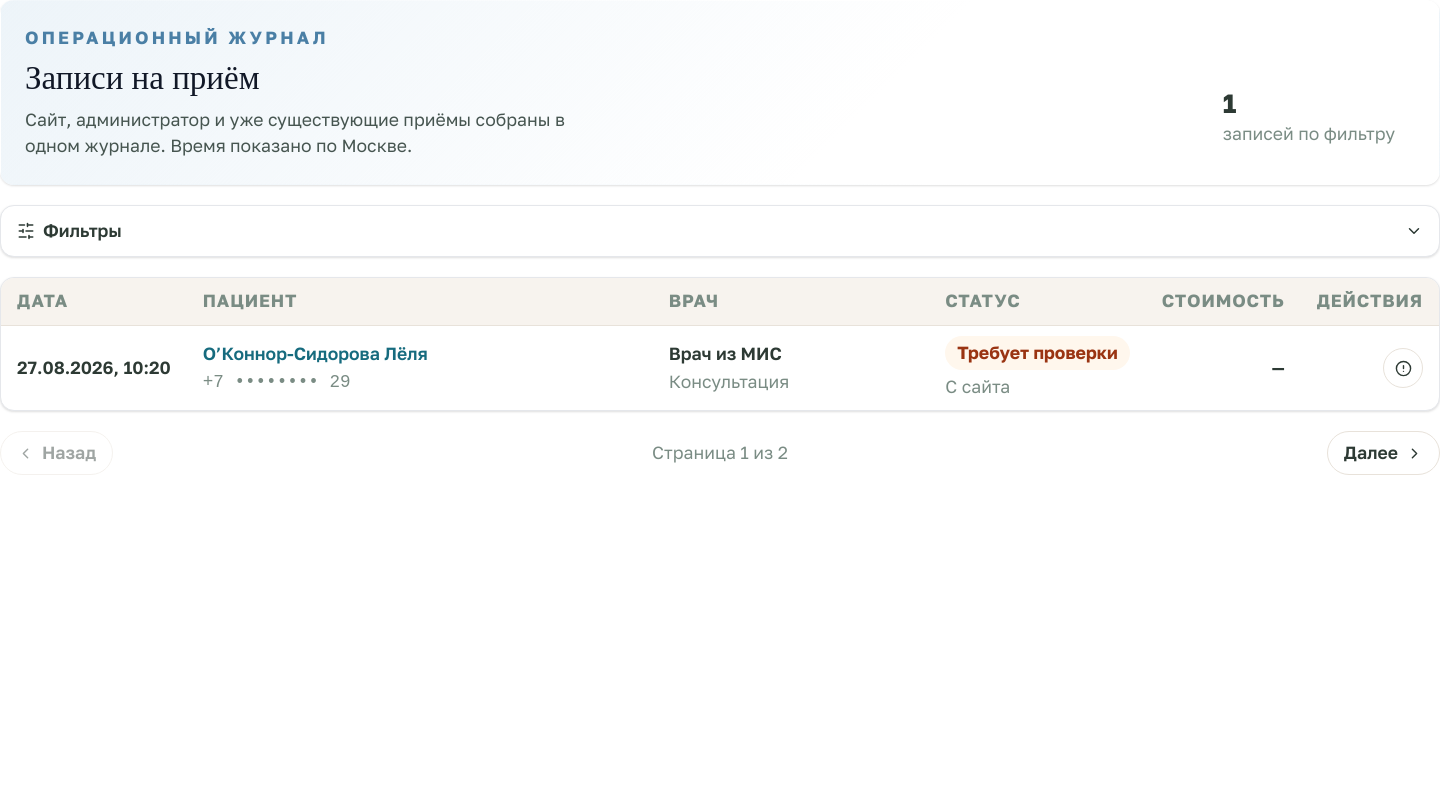
Test: Appointments admin view › manually confirms a needs-review appointment with an explicit claim
Expected: the text "Требует проверки" is shown, [945,336,1130,370]
Click the button named "Подтвердить запись О’Коннор-Сидорова Лёля" at point(1403, 368), box [1383,348,1423,388]
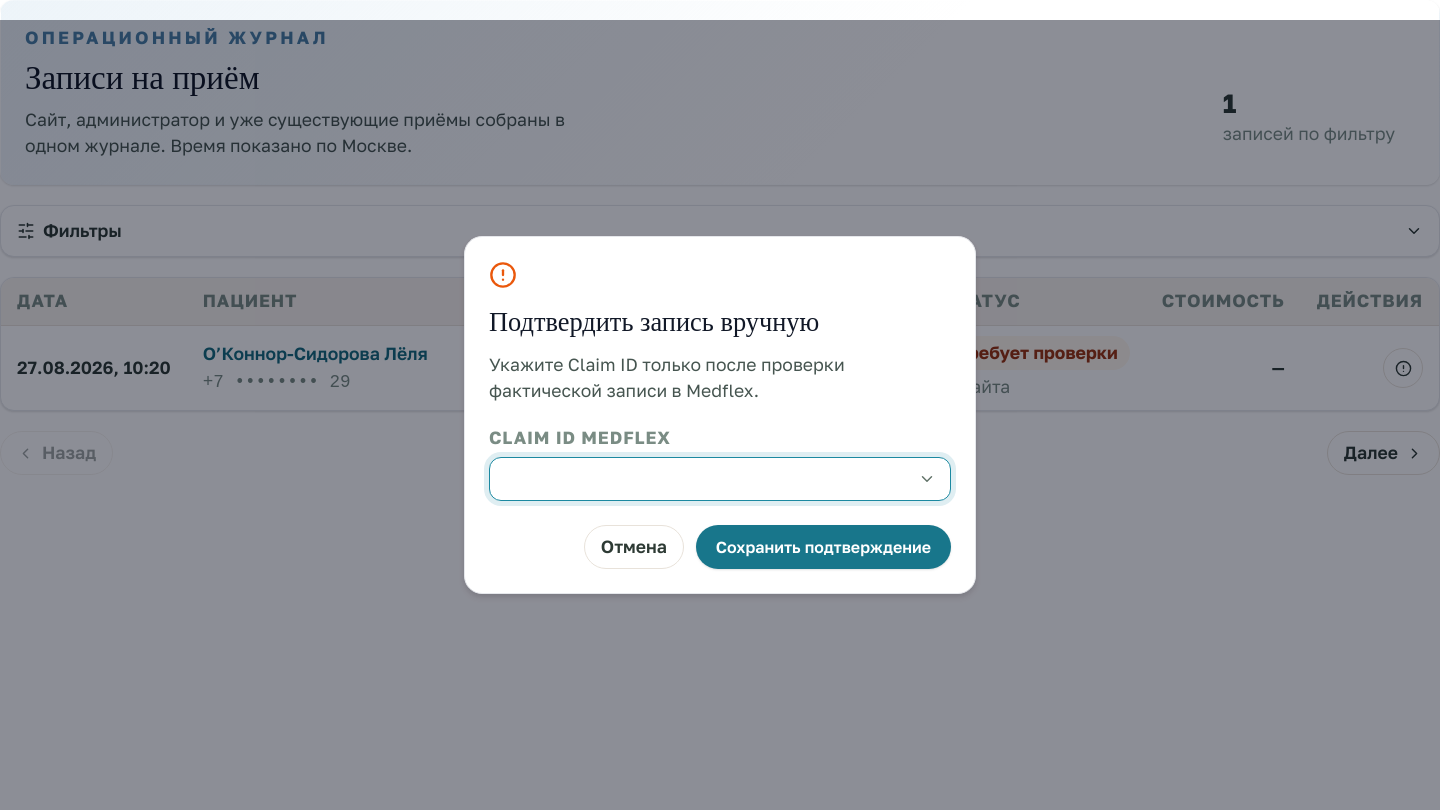
Type "d1c060a0-8375-4ff9-bce5-9bb03029256f" into the field labelled "Claim ID Medflex" at point(720, 479), box [489,457,951,501]
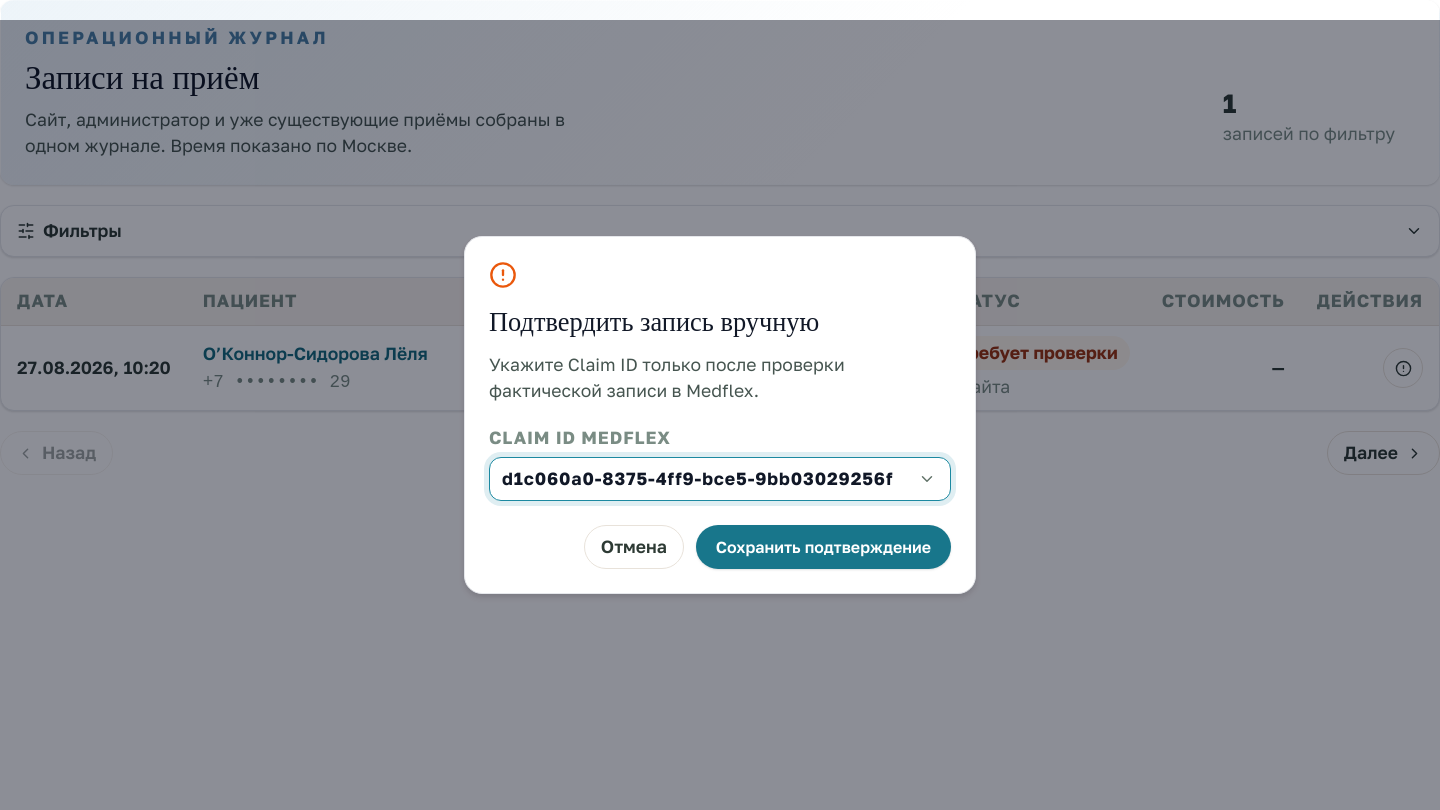
Click the button "Сохранить подтверждение" at point(823, 547), box [696,525,951,569]
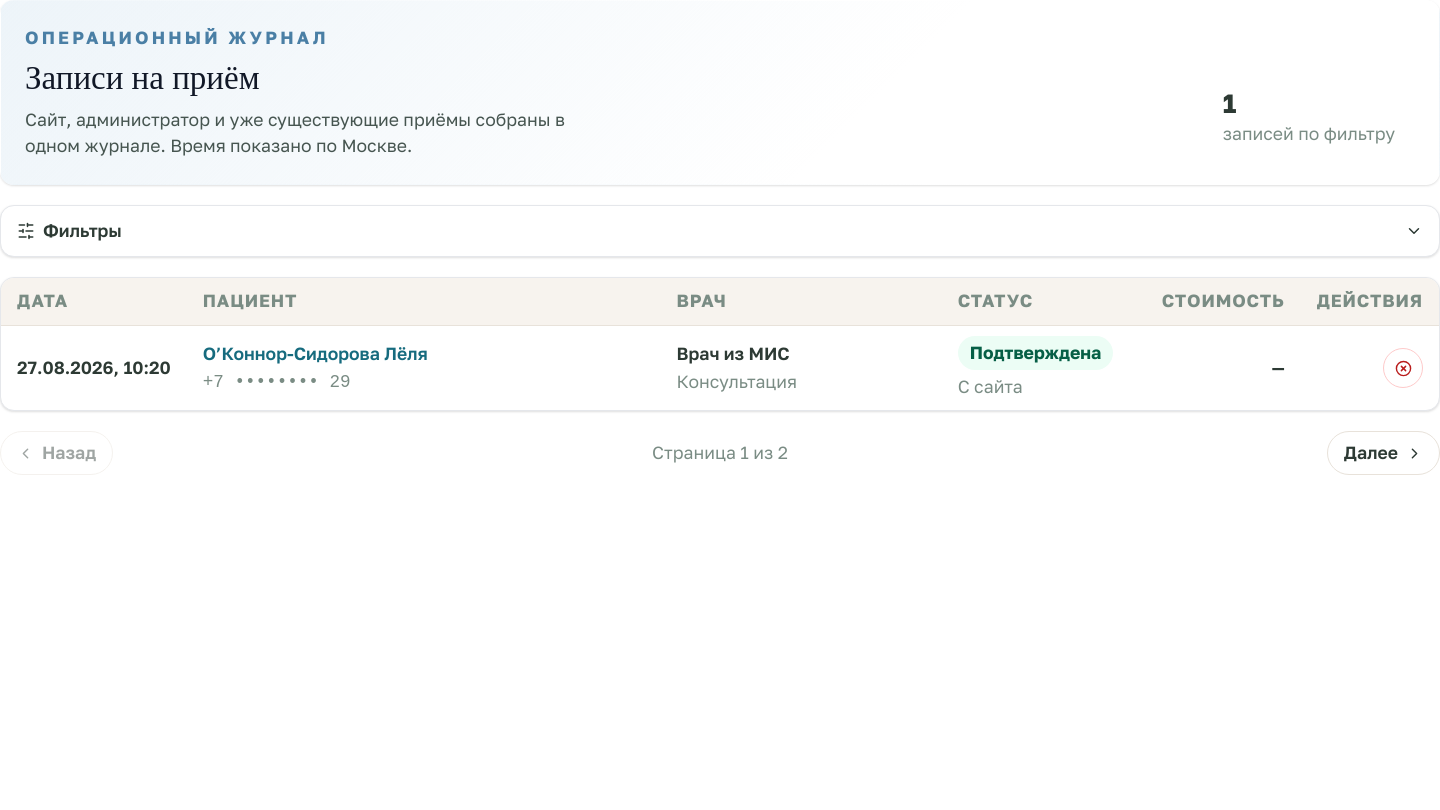
Result: the text "Подтверждена" is shown at [958,336,1113,370]
